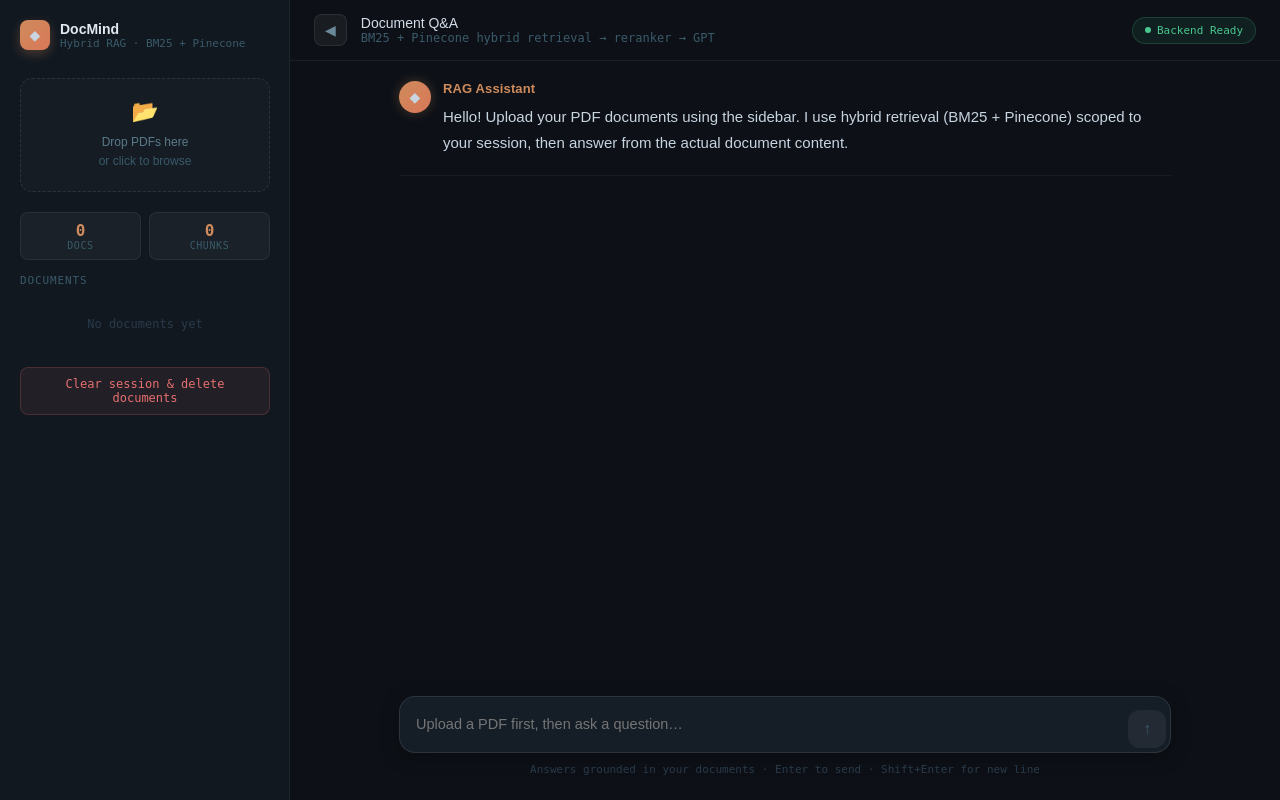
submitting a question renders the answer and sources
Expected: the text "Backend Ready" is shown, [1132,16,1256,44]
Type "What is the capital?" into the text box with placeholder "Upload a PDF first, then ask a question…". click: (768, 724)
box: [416,701,1120,748]
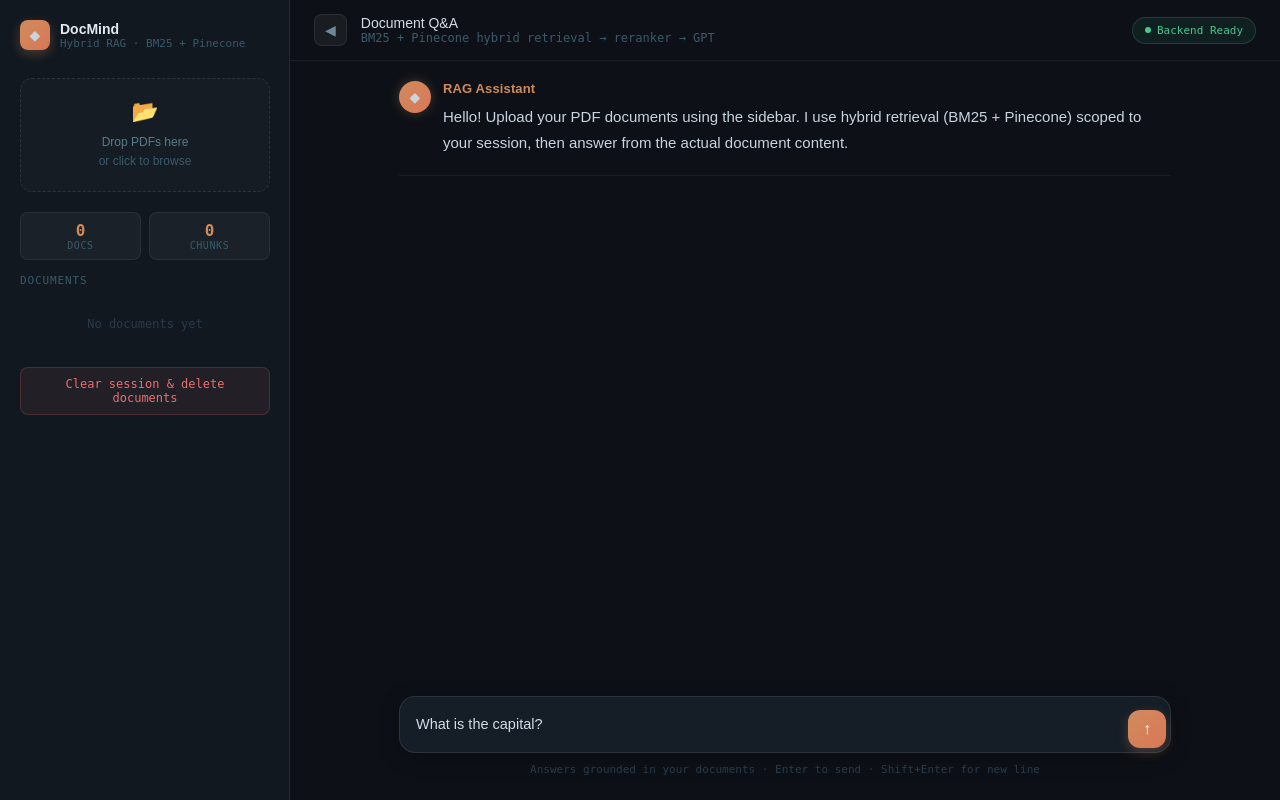
Press Enter in the text box with placeholder "Upload a PDF first, then ask a question…", box [416,701,1120,748]
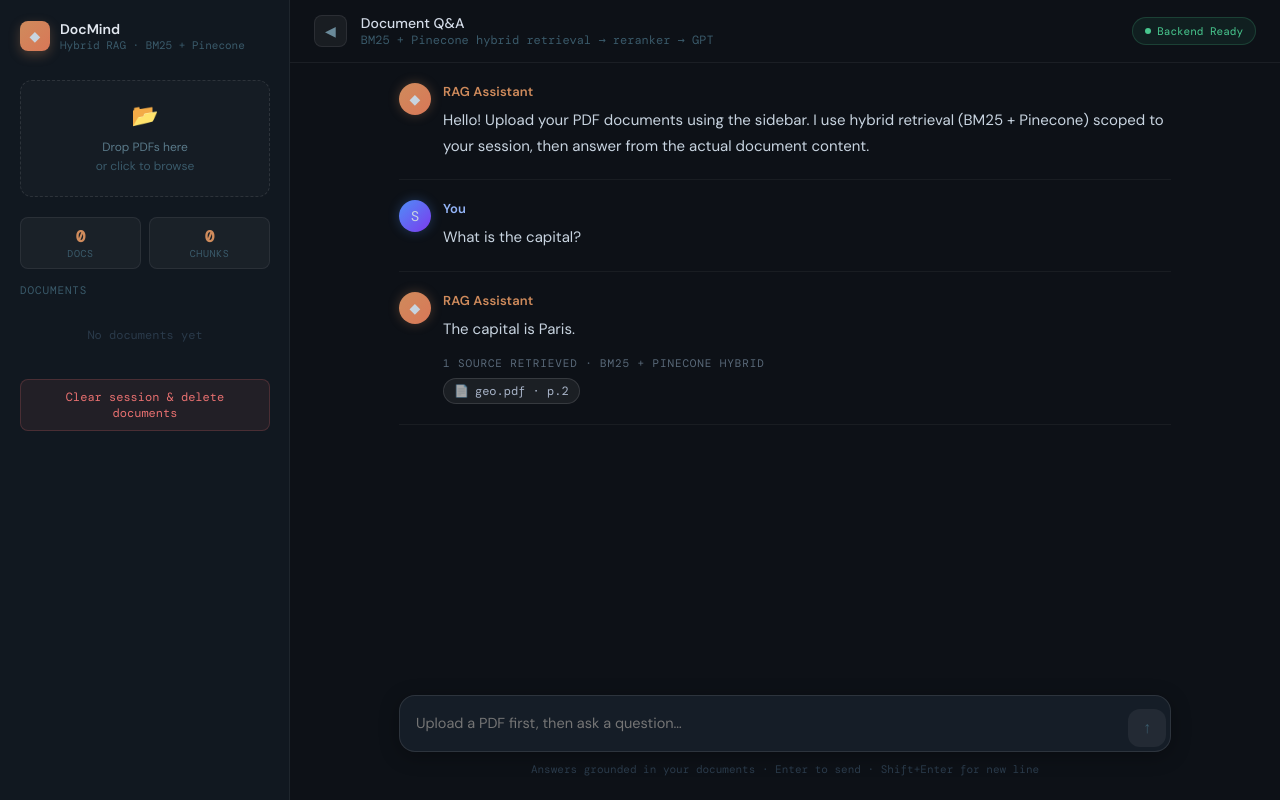
Expected: the text "The capital is Paris." is shown, [443,318,575,338]
Expected: the button "📄 geo.pdf · p.2" is shown, [443,378,580,404]
